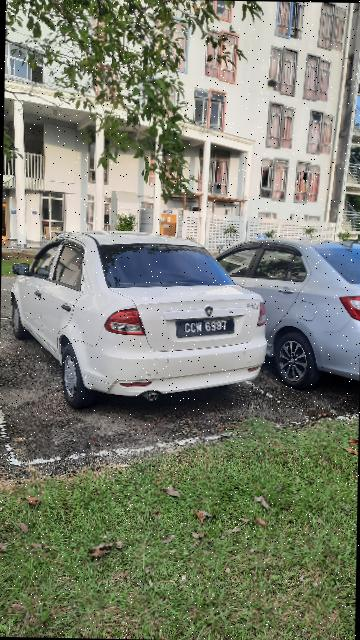License_Plate: (173, 314, 240, 340)
car: (8, 229, 270, 413), (209, 235, 360, 394)
